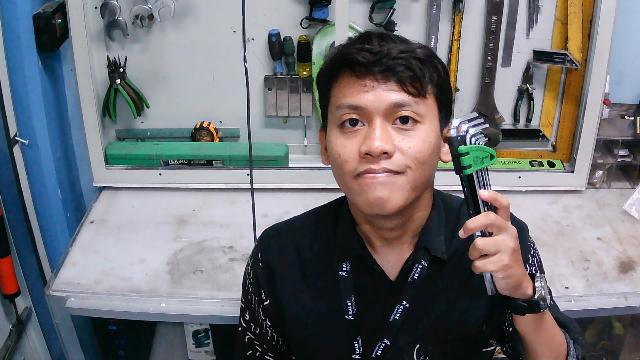kunci_l: (447, 112, 498, 297)
